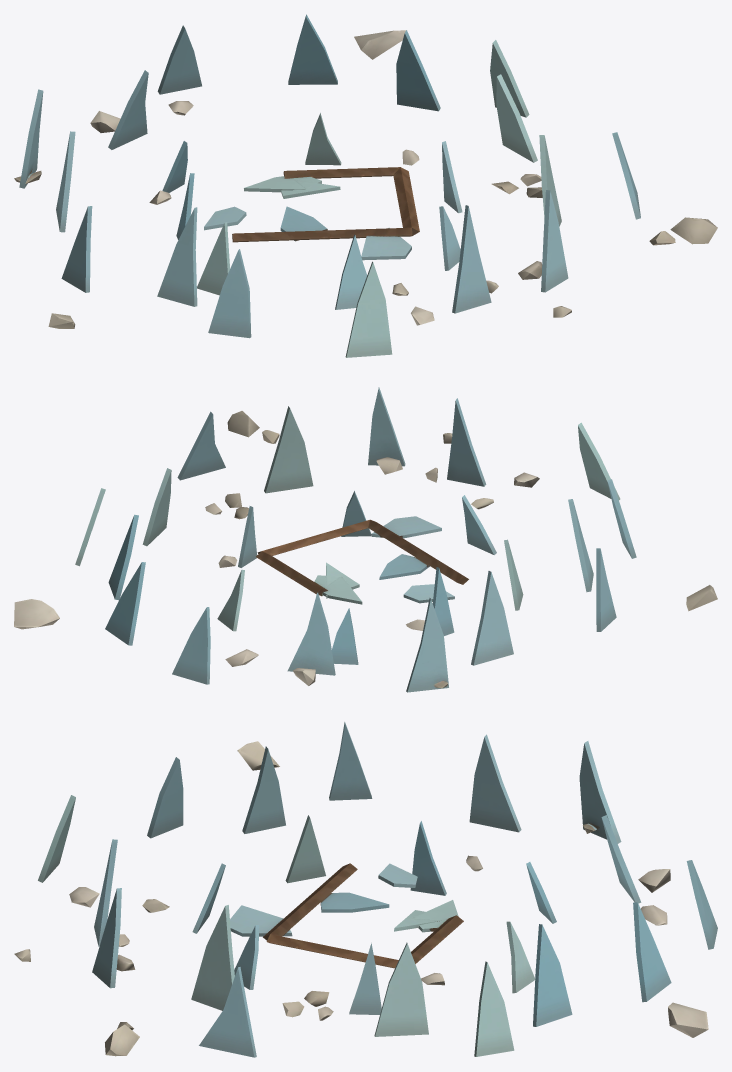
File: trap-glass.hq.glb
3 renders of one model, top to bottom at view 1: azimuth 30°, elevation 25°; view 2: azimuth 150°, elevation 25°; view 3: azimuth 270°, elevation 25°, orthographic. The views are drawn at different scales.
Parts seen in each view (by area): view 1: trap-glass:static, trap-glass:tooth-1-mesh, trap-glass:tooth-0-mesh, trap-glass:tooth-4-mesh, trap-glass:tooth-2-mesh, trap-glass:tooth-3-mesh, trap-glass:tooth-5-mesh; view 2: trap-glass:static, trap-glass:tooth-5-mesh, trap-glass:tooth-1-mesh, trap-glass:tooth-6-mesh, trap-glass:tooth-4-mesh, trap-glass:tooth-3-mesh, trap-glass:tooth-2-mesh, trap-glass:tooth-0-mesh; view 3: trap-glass:static, trap-glass:tooth-0-mesh, trap-glass:tooth-6-mesh, trap-glass:tooth-3-mesh, trap-glass:tooth-4-mesh, trap-glass:tooth-2-mesh, trap-glass:tooth-5-mesh, trap-glass:tooth-1-mesh.
Boxes of the visible parts, x1,y1,x2,y2 form: trap-glass:static: [14, 14, 717, 357]; trap-glass:tooth-1-mesh: [335, 234, 367, 309]; trap-glass:tooth-0-mesh: [197, 222, 229, 295]; trap-glass:tooth-4-mesh: [305, 113, 341, 165]; trap-glass:tooth-2-mesh: [439, 206, 460, 270]; trap-glass:tooth-3-mesh: [442, 141, 462, 213]; trap-glass:tooth-5-mesh: [162, 141, 187, 192]; trap-glass:static: [14, 387, 717, 692]; trap-glass:tooth-5-mesh: [332, 608, 358, 664]; trap-glass:tooth-1-mesh: [462, 495, 496, 554]; trap-glass:tooth-6-mesh: [432, 567, 454, 635]; trap-glass:tooth-4-mesh: [217, 569, 244, 631]; trap-glass:tooth-3-mesh: [238, 506, 256, 567]; trap-glass:tooth-2-mesh: [341, 491, 371, 536]; trap-glass:tooth-0-mesh: [504, 539, 523, 610]; trap-glass:static: [14, 722, 717, 1057]; trap-glass:tooth-0-mesh: [285, 815, 325, 883]; trap-glass:tooth-6-mesh: [410, 821, 446, 895]; trap-glass:tooth-3-mesh: [349, 943, 381, 1014]; trap-glass:tooth-4-mesh: [506, 921, 535, 993]; trap-glass:tooth-2-mesh: [234, 925, 259, 989]; trap-glass:tooth-5-mesh: [526, 862, 556, 923]; trap-glass:tooth-1-mesh: [192, 863, 225, 933].
Bounding box in the file's own units: 1.55 × 0.2866 × 1.51.
1 material, 1 textured.
